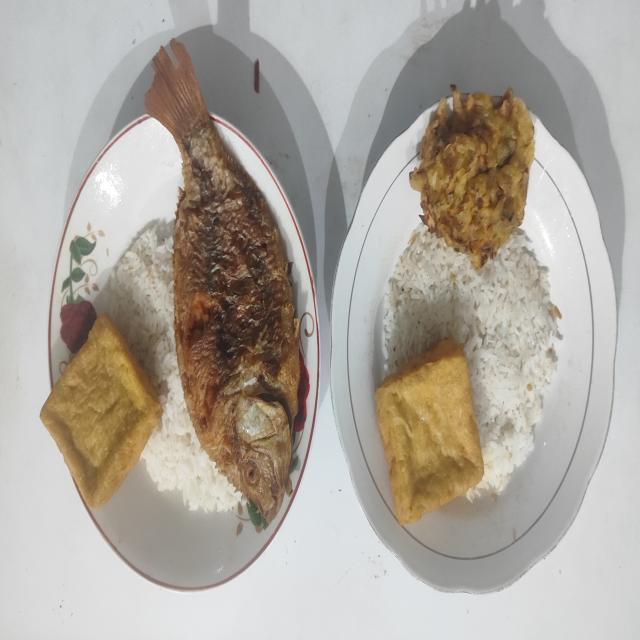ikan_mujair: (146, 41, 302, 524)
nasi_putih: (383, 226, 561, 501), (110, 220, 242, 512)
tahu_goreng: (40, 316, 163, 508), (376, 340, 484, 526)
